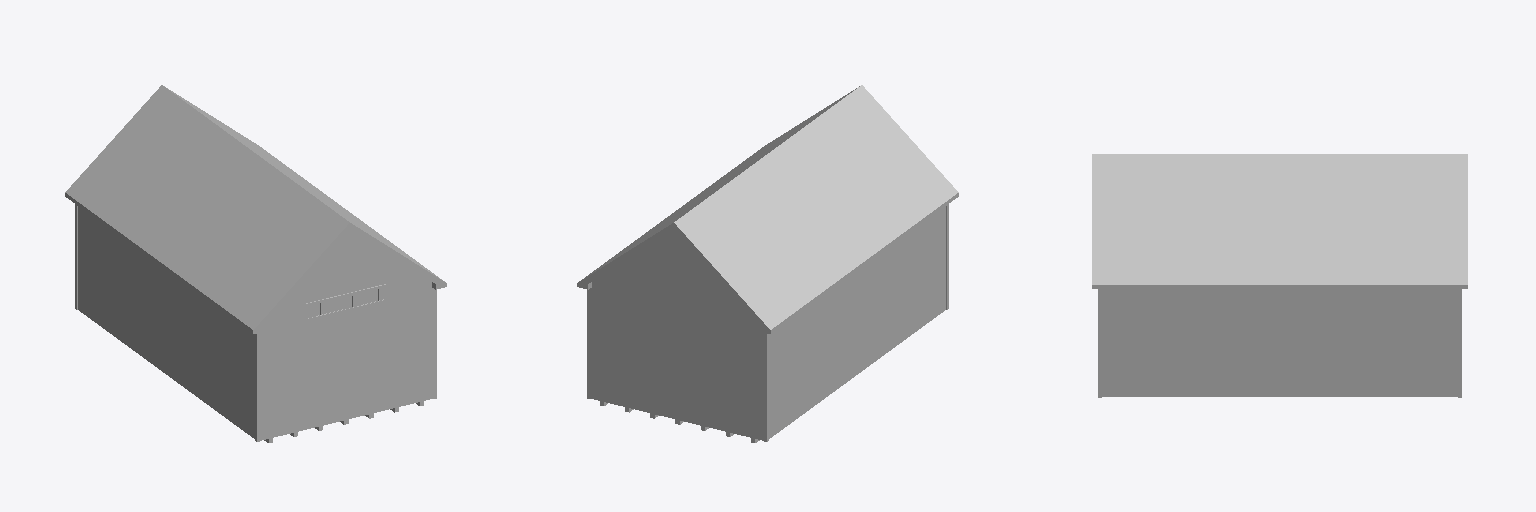
Rendered from Elite Garage_14x24.obj.
3 views of the same model, side by side, from view 1: azimuth 30°, elevation 25°; view 2: azimuth 150°, elevation 25°; view 3: azimuth 270°, elevation 25° (orthographic).
Visible parts, largest first — view 1: Elite Garage_14x24.obj; view 2: Elite Garage_14x24.obj; view 3: Elite Garage_14x24.obj.
Boxes of the visible parts, box(x1,y1,x2,y2) form: Elite Garage_14x24.obj: box(65, 85, 446, 442); Elite Garage_14x24.obj: box(577, 85, 958, 442); Elite Garage_14x24.obj: box(1092, 154, 1467, 397).
Bounding box in the file's own units: 4.52 × 4.57 × 7.62.